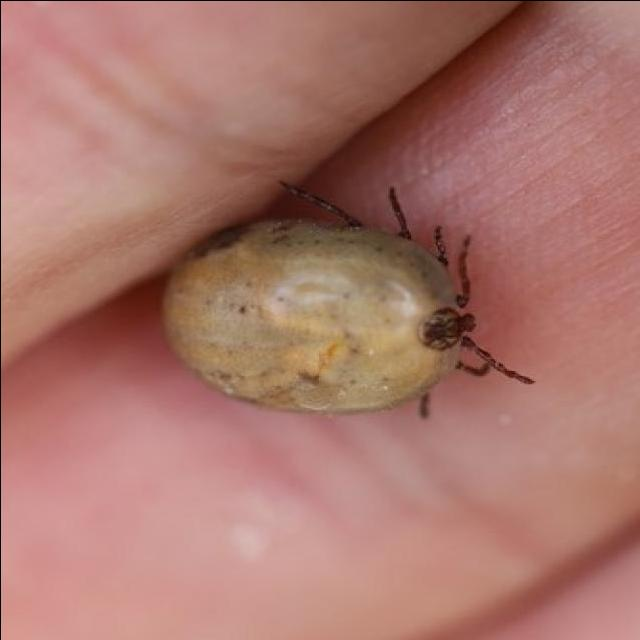Dermacentor Reticulatus-F-Fed: (161, 179, 535, 419)
